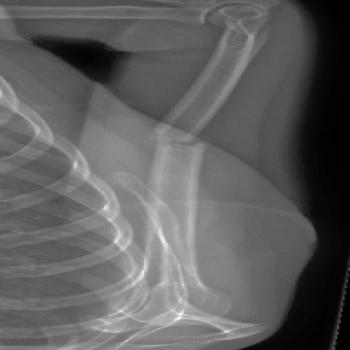Fracture: (126, 125, 229, 157)
